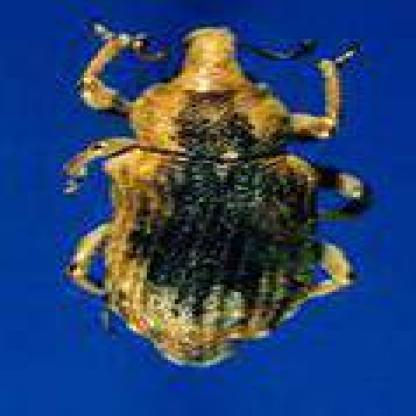rice-bug: (56, 20, 371, 368)
